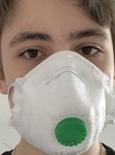with_mask: (2, 1, 115, 155)
